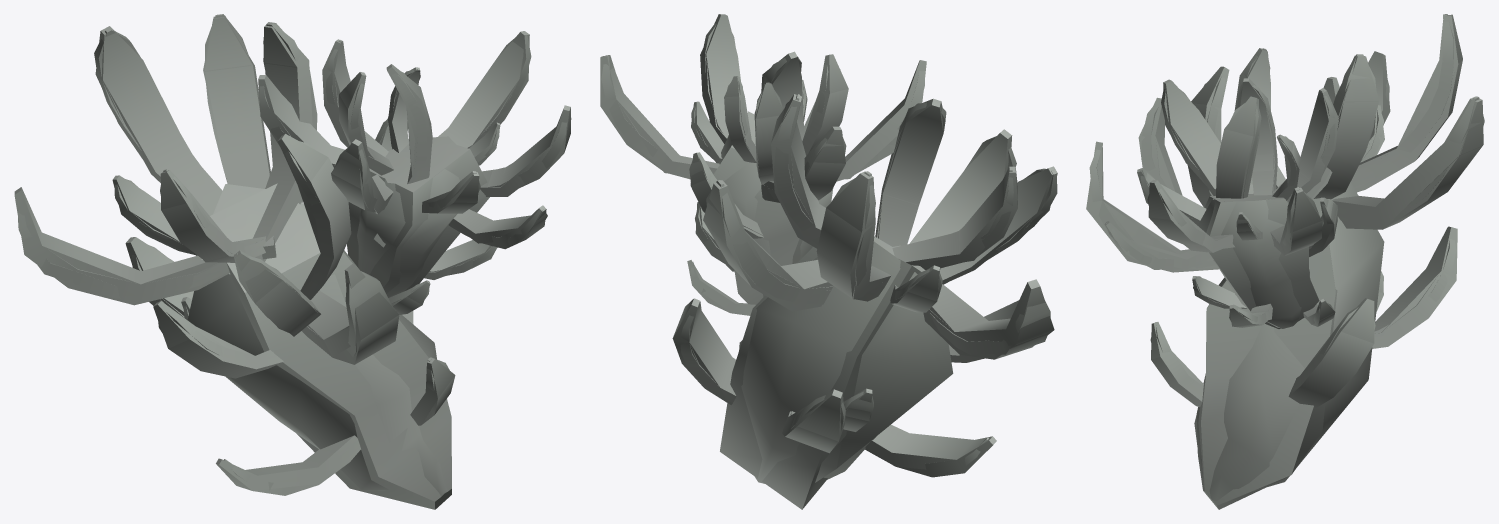
File: Env_plant04_LOD_Mesh.fbx
3 views of the same model, side by side, from view 1: azimuth 30°, elevation 25°; view 2: azimuth 150°, elevation 25°; view 3: azimuth 270°, elevation 25° (orthographic). The views are drawn at different scales.
Visible parts, largest first — view 1: Env_plant04_LOD3_Mesh, Env_plant04_LOD2_Mesh, Env_plant04_LOD1_Mesh; view 2: Env_plant04_LOD3_Mesh, Env_plant04_LOD1_Mesh, Env_plant04_LOD2_Mesh; view 3: Env_plant04_LOD3_Mesh, Env_plant04_LOD2_Mesh, Env_plant04_LOD1_Mesh.
Part boxes in pixels (x1,y1,x2,y2): Env_plant04_LOD3_Mesh: (14, 16, 570, 509); Env_plant04_LOD2_Mesh: (25, 22, 563, 504); Env_plant04_LOD1_Mesh: (18, 14, 571, 503); Env_plant04_LOD3_Mesh: (600, 14, 1057, 509); Env_plant04_LOD1_Mesh: (601, 23, 1057, 483); Env_plant04_LOD2_Mesh: (600, 54, 1053, 477); Env_plant04_LOD3_Mesh: (1086, 14, 1482, 509); Env_plant04_LOD2_Mesh: (1086, 56, 1483, 506); Env_plant04_LOD1_Mesh: (1089, 14, 1484, 502).
Size of the model in its own units: 152 by 139 by 120.
